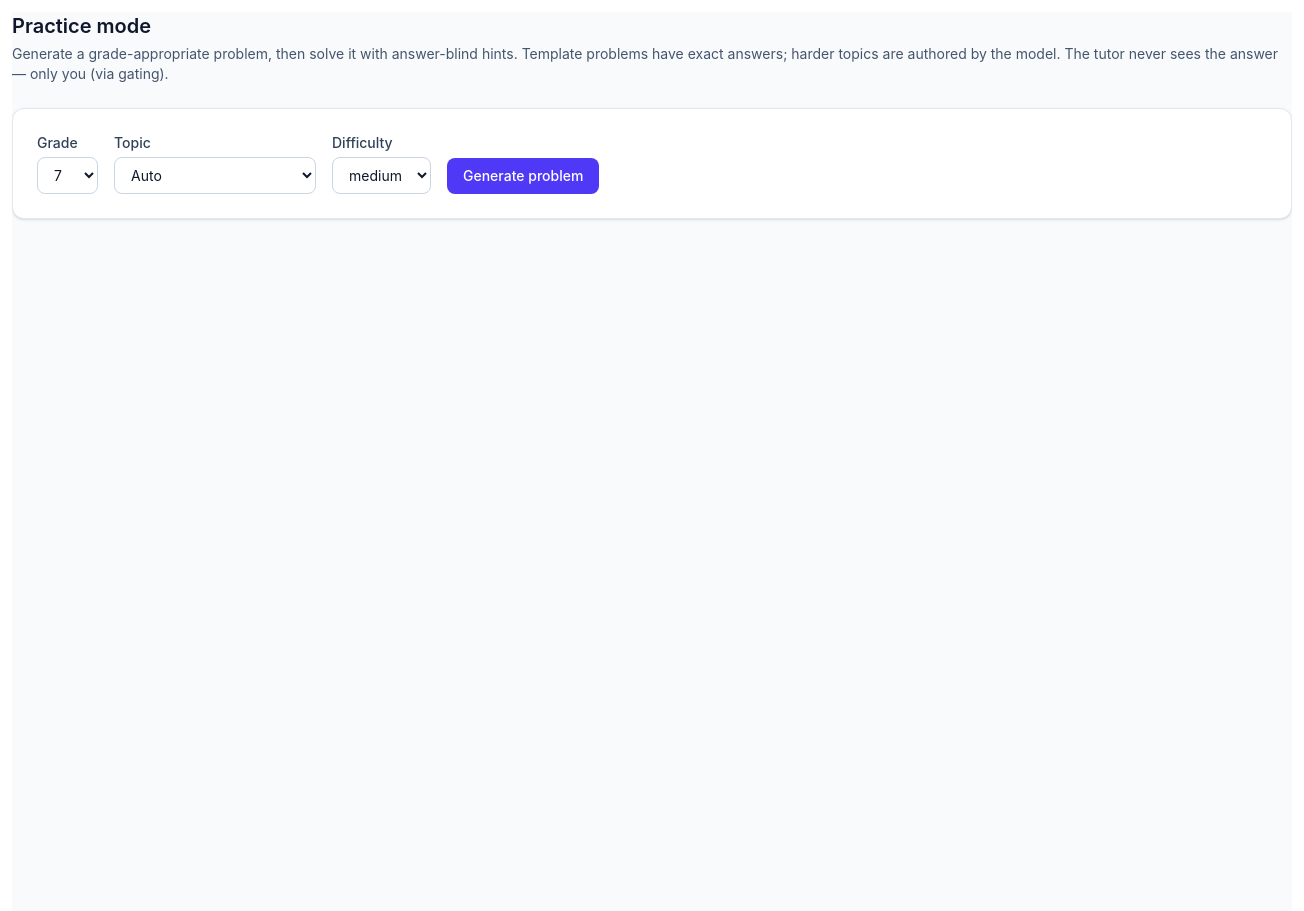
admin › generates a worked solution for an admin on demand
Click the button "Generate problem" at coordinates (523, 176), box [447,158,599,194]
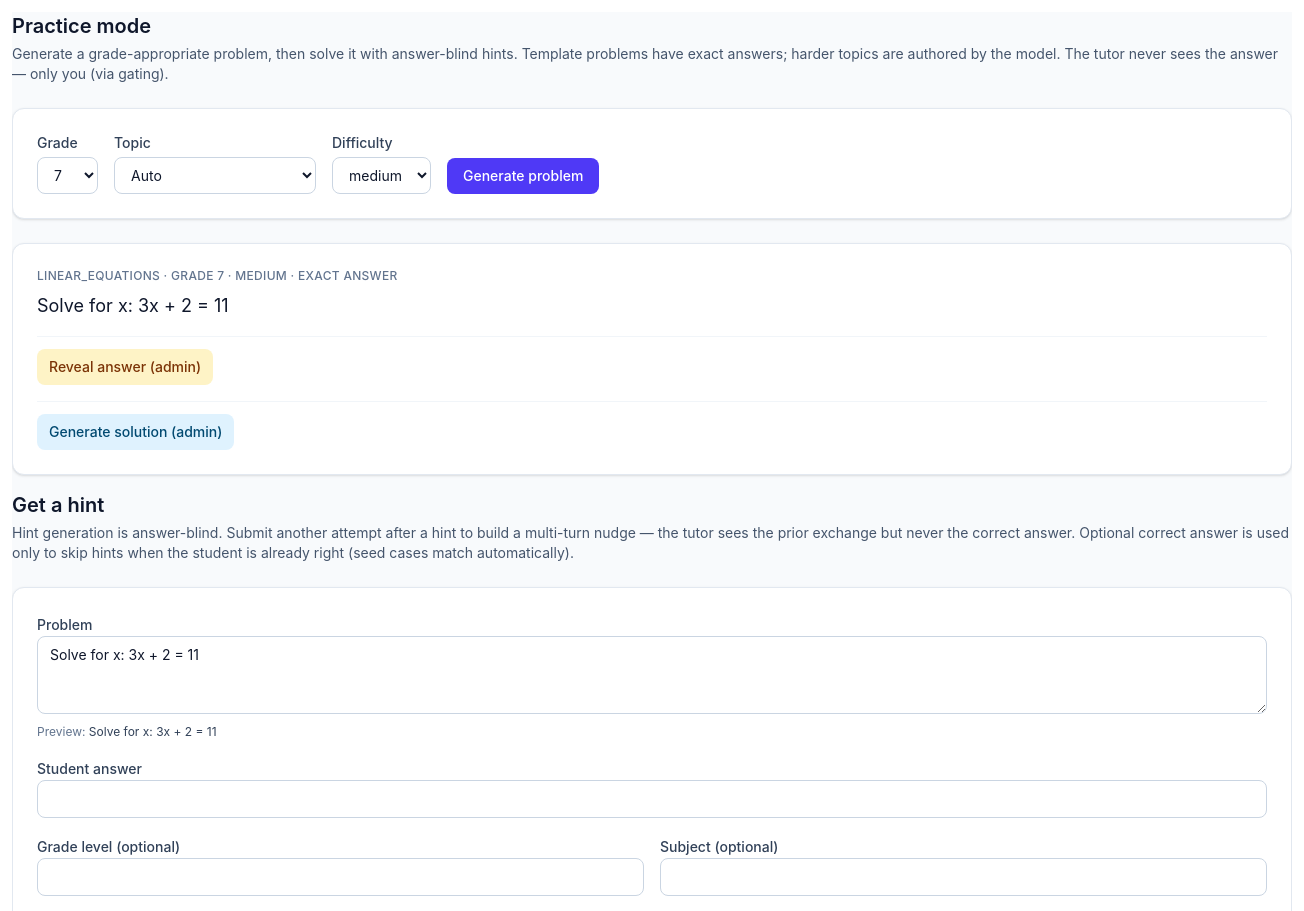
Click the button "Generate solution (admin)" at coordinates (136, 432), box [37,414,234,450]
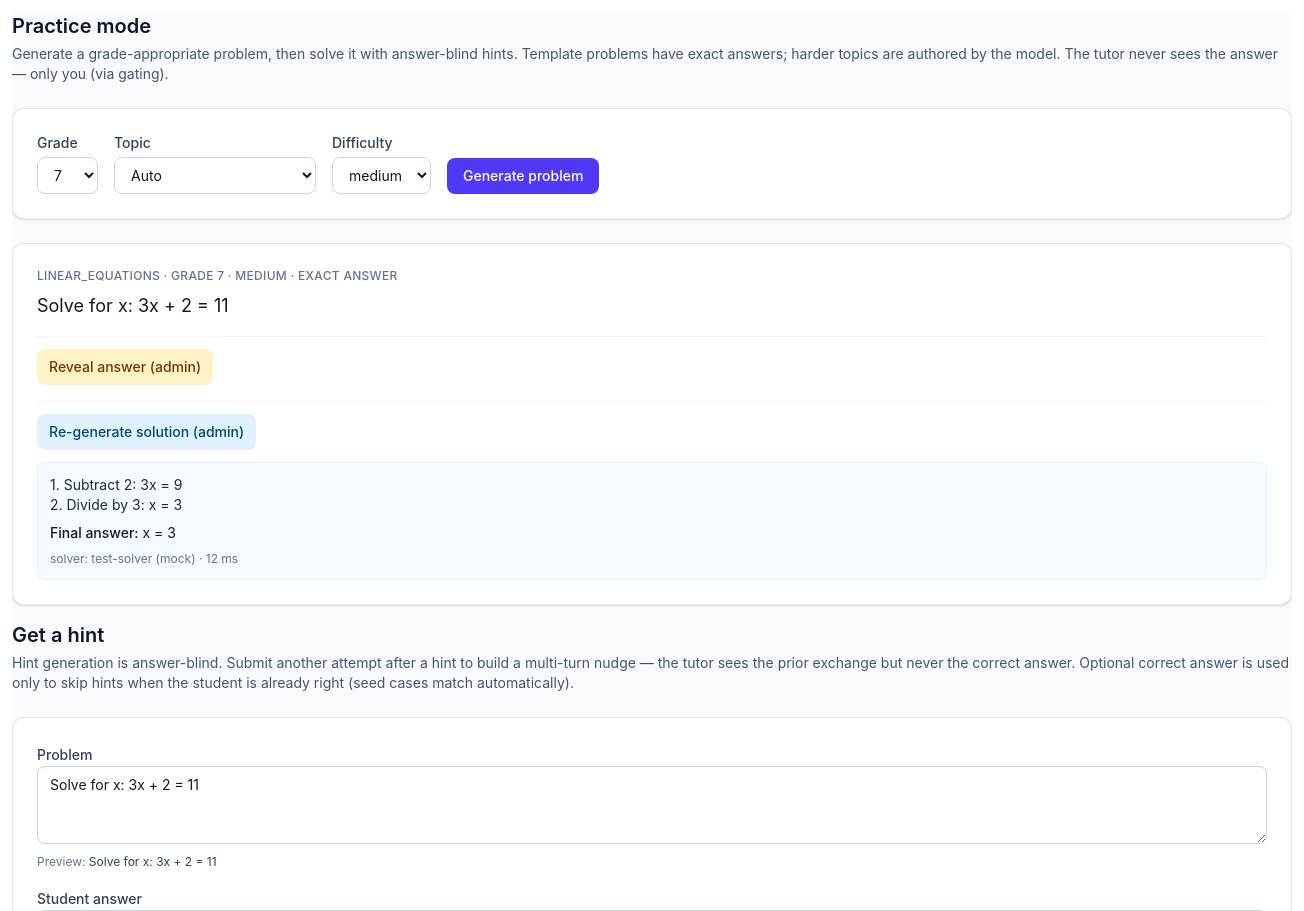
Now the text "1. Subtract 2: 3x = 9 2. Divide by 3: x = 3" is shown, box [50,476,182,513]
Now the text "Final answer:" is shown, box [50,524,139,541]
Now the text "solver: test-solver (mock) · 12 ms" is shown, box [50,551,238,566]
